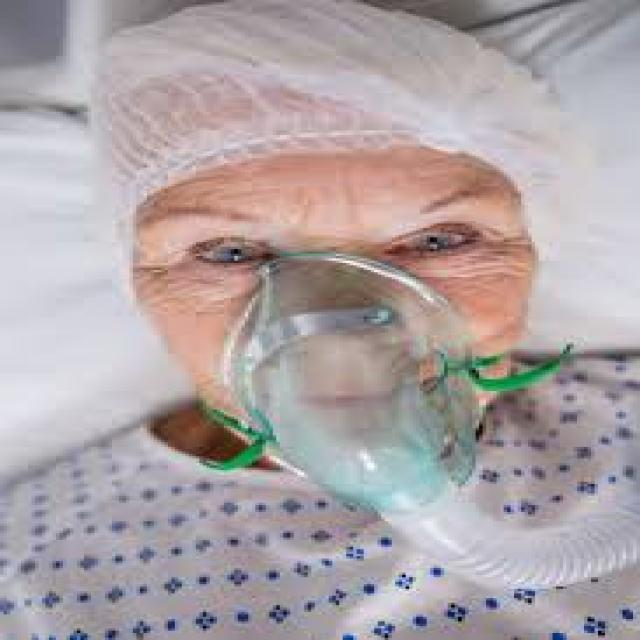oxygen_mask: (217, 249, 490, 562)
